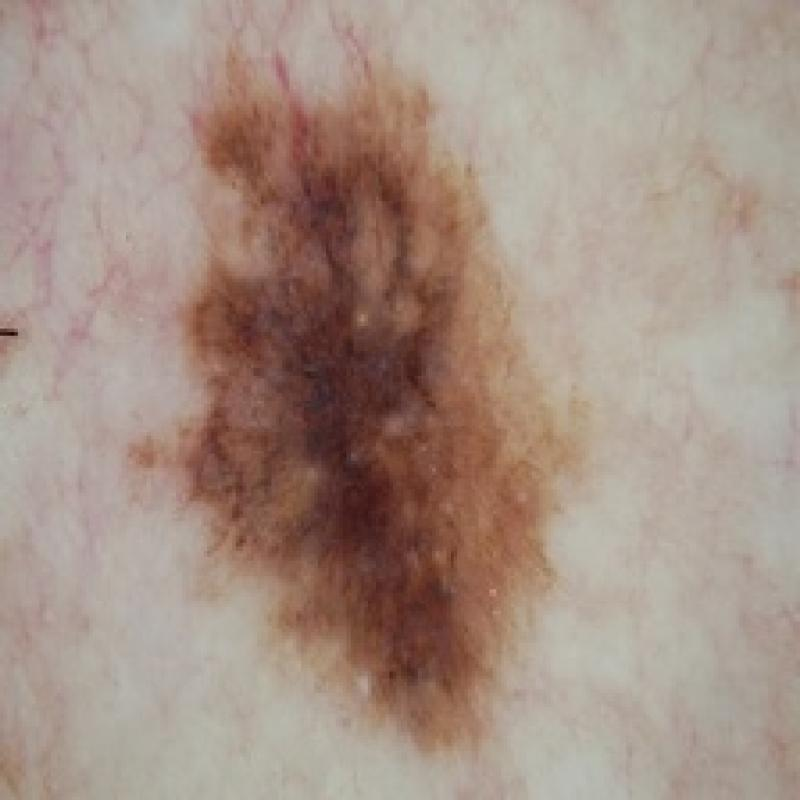malignant: (116, 29, 621, 756)
